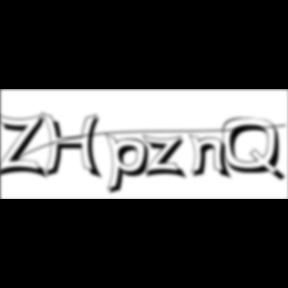H: (41, 112, 107, 182)
Q: (222, 117, 288, 184)
Z: (0, 112, 50, 181)
n: (189, 132, 236, 181)
p: (106, 132, 156, 198)
z: (143, 134, 192, 182)
